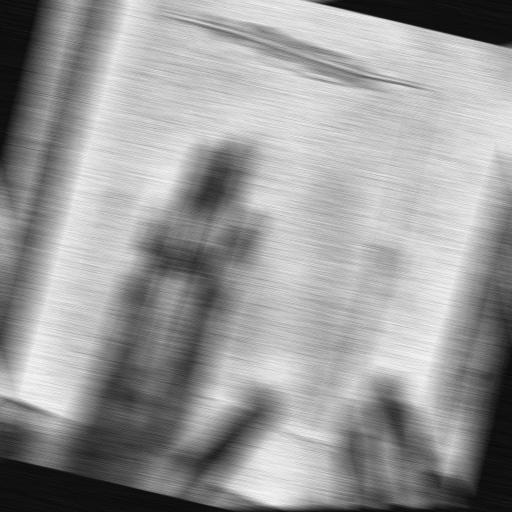bottom_right: (0, 381, 13, 401)
envelop: (54, 0, 445, 469)
